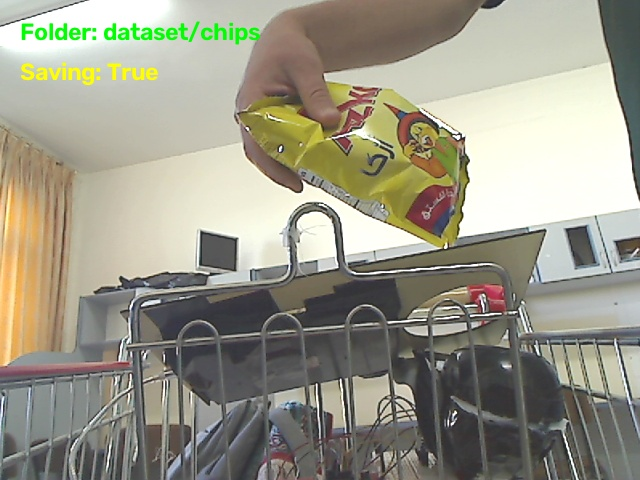chips: (238, 83, 467, 246)
